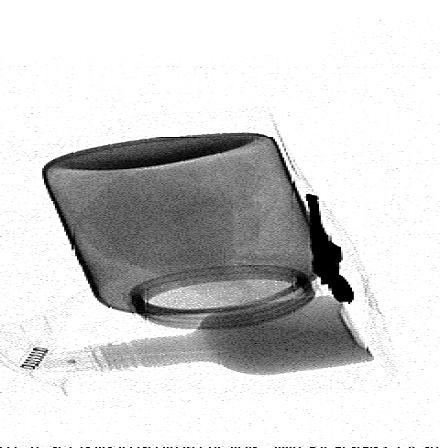Gun: (309, 194, 358, 304)
